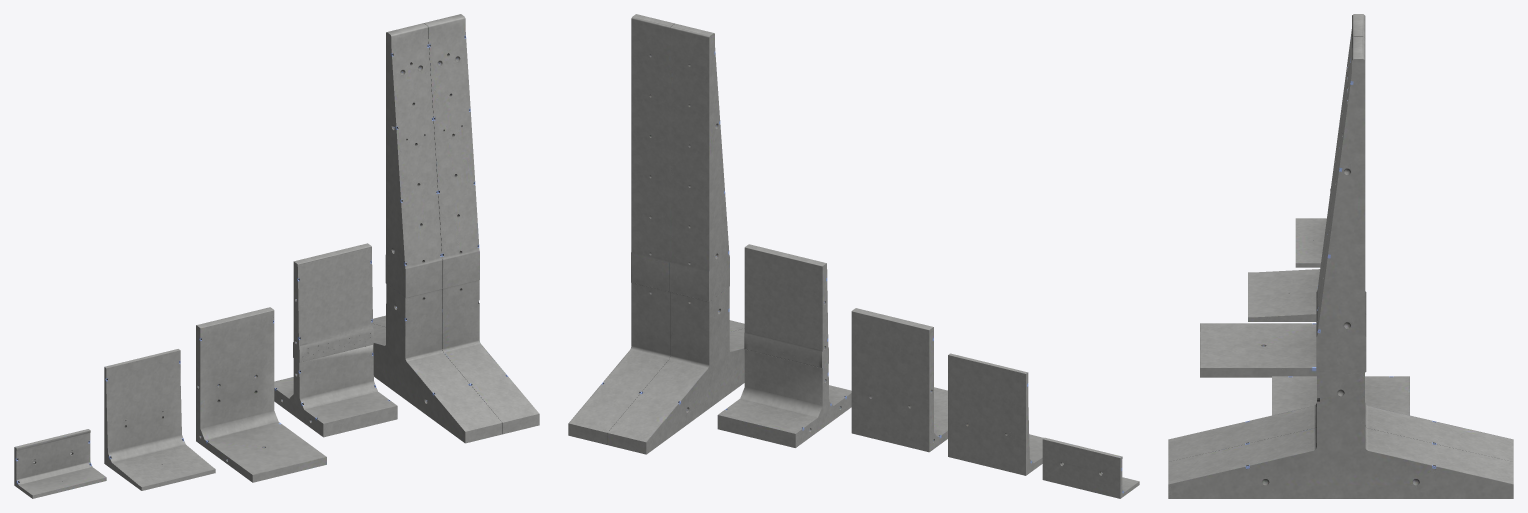
Rendered from All_five_wall_models_022.glb.
3 views of the same model, side by side, from view 1: azimuth 30°, elevation 25°; view 2: azimuth 150°, elevation 25°; view 3: azimuth 270°, elevation 25° (orthographic). The views are drawn at different scales.
Size of the model in its own units: 12.13 by 9.01 by 6.41.
Materials: 1 (1 with a texture image).
